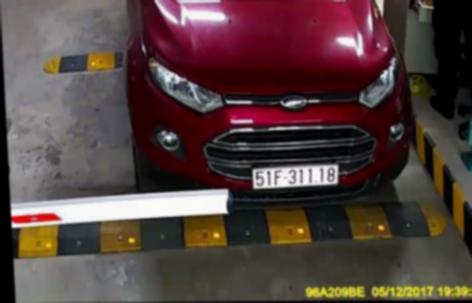License_Plate: (246, 161, 341, 193)
